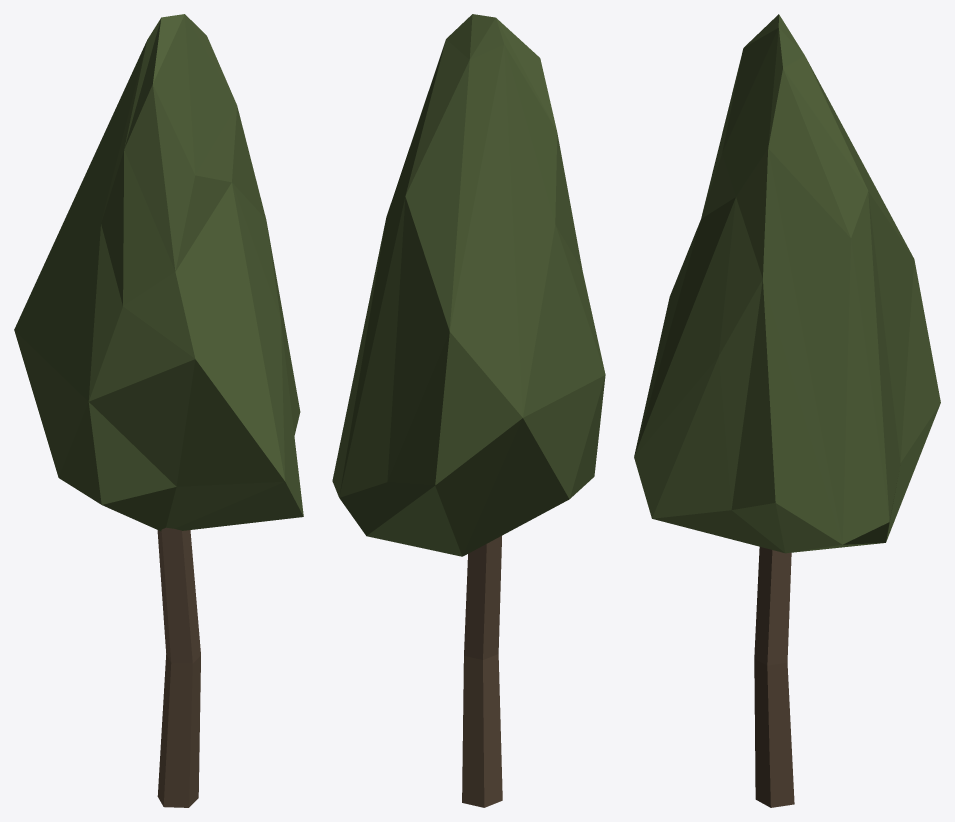
The model's file is Tree_094.fbx.
3 views of the same model, side by side, from view 1: azimuth 30°, elevation 25°; view 2: azimuth 150°, elevation 25°; view 3: azimuth 270°, elevation 25° (orthographic).
Visible parts, largest first — view 1: Tree_094; view 2: Tree_094; view 3: Tree_094.
Boxes of the visible parts, x1,y1,x2,y2 form: Tree_094: (14,14,303,807); Tree_094: (332,14,605,807); Tree_094: (634,14,940,807).
Size of the model in its own units: 0.6455 by 2.12 by 0.7585.
1 material, 1 textured.
